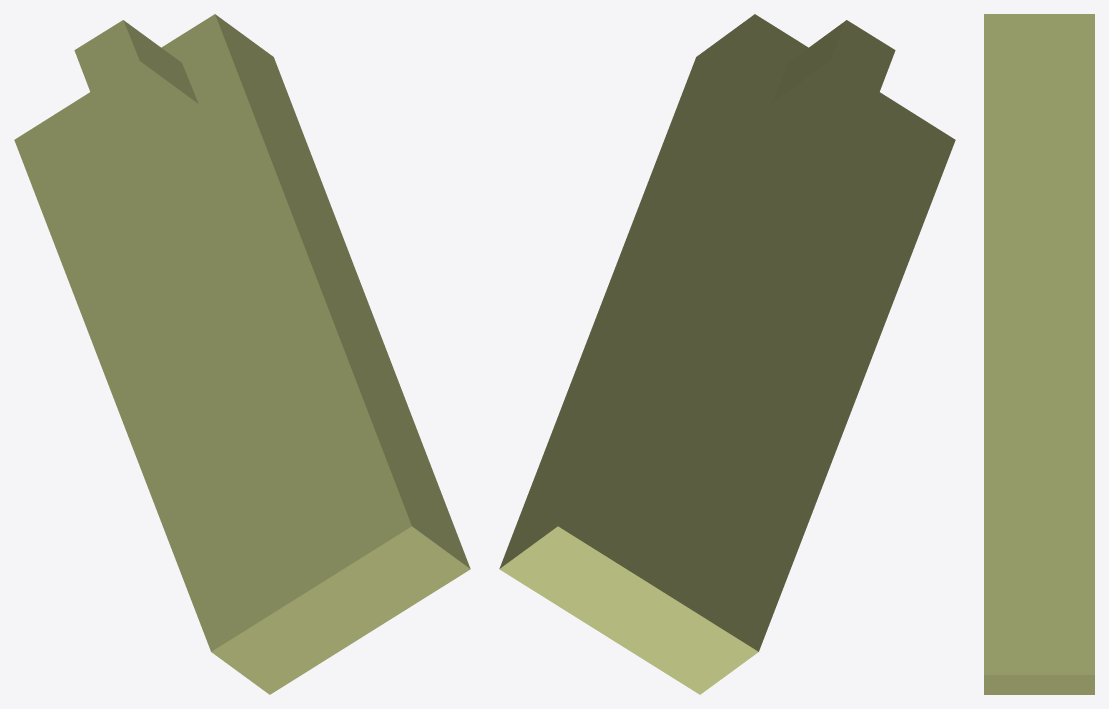
3 renders of one model, left to right at view 1: azimuth 30°, elevation 25°; view 2: azimuth 150°, elevation 25°; view 3: azimuth 270°, elevation 25°, orthographic. The views are drawn at different scales.
Parts seen in each view (by area): view 1: 0_1_0_2_0_3_1_2_1; view 2: 0_1_0_2_0_3_1_2_1; view 3: 0_1_0_2_0_3_1_2_1.
Part boxes in pixels (x1,y1,x2,y2): 0_1_0_2_0_3_1_2_1: (14,14,470,694); 0_1_0_2_0_3_1_2_1: (499,14,955,694); 0_1_0_2_0_3_1_2_1: (984,14,1094,694).
Size of the model in its own units: 23.44 by 36.81 by 6.
